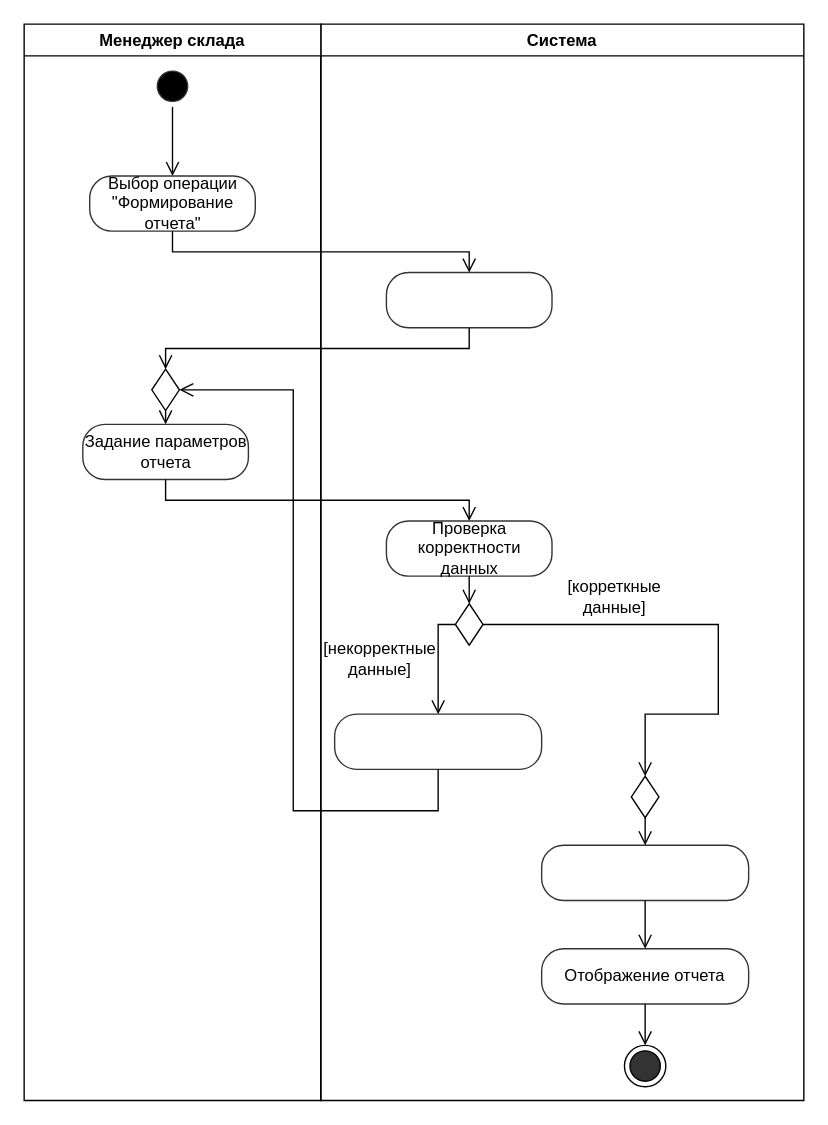
Some shapes in this 828 by 1125 pixel diagram are drawn without their labels. Here are the shapes that lost their labels. From the top down, the centre of each, then its label:
At [468,299]: "Запрос параметров отчета".
At [437,741]: "Вывод сообщения об ошибке".
At [644,872]: "Формирование отчета".
